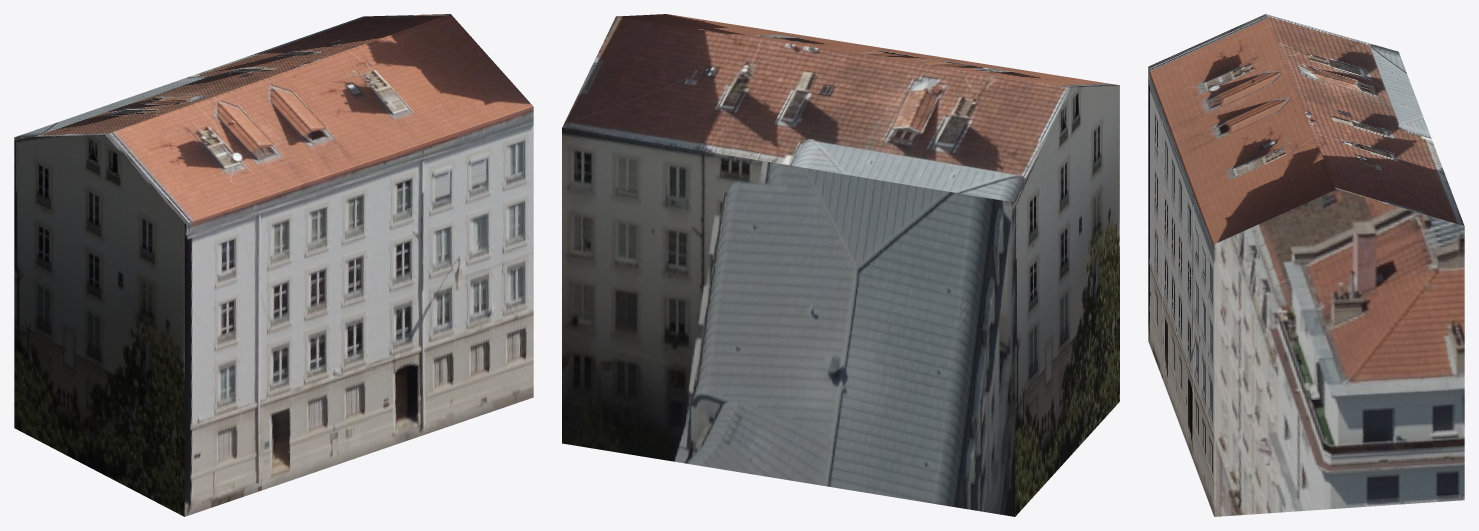
3 views of the same model, side by side, from view 1: azimuth 30°, elevation 25°; view 2: azimuth 150°, elevation 25°; view 3: azimuth 270°, elevation 25° (orthographic). The views are drawn at different scales.
Parts seen in each view (by area): view 1: Z_UP; view 2: Z_UP; view 3: Z_UP.
Part boxes in pixels (x1,y1,x2,y2): Z_UP: (14,14,533,516); Z_UP: (562,14,1119,516); Z_UP: (1148,14,1464,516).
Size of the model in its own units: 25.83 by 19.98 by 17.93.
2 materials, 1 textured.
